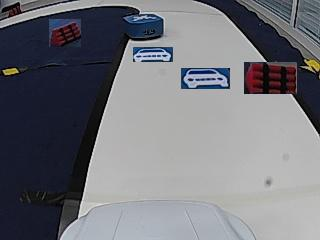prop: (124, 14, 164, 41)
